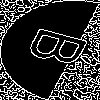B: (24, 25, 100, 73)
